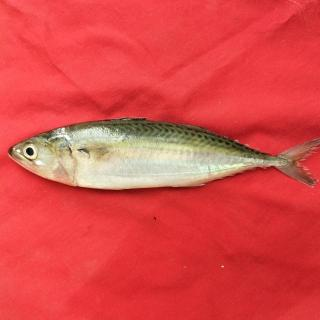Ikan: (8, 116, 320, 194)
